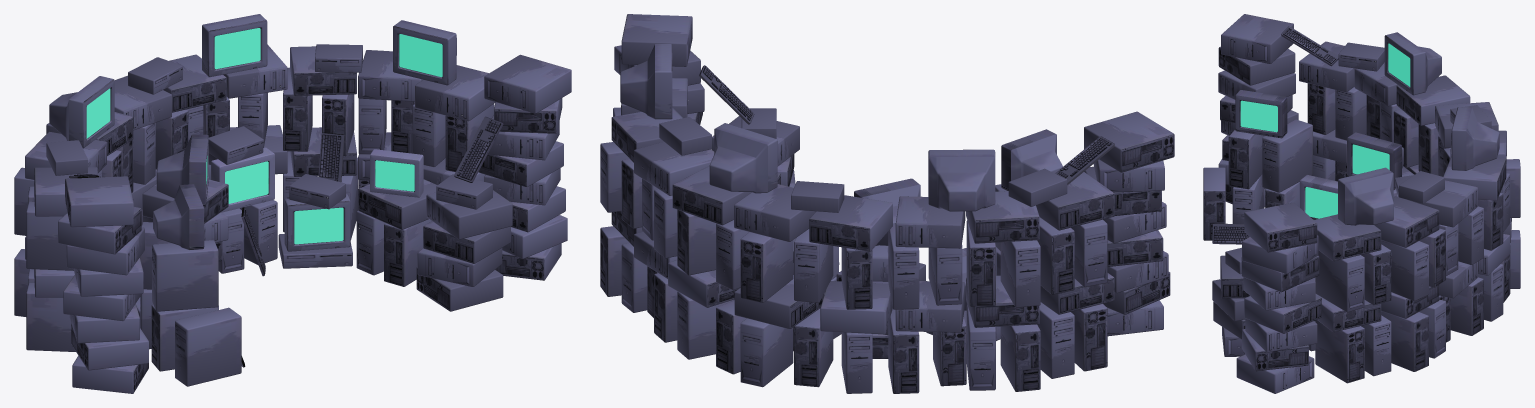
The model's file is computers.glb.
The picture shows the model from 3 angles, left to right: view 1: azimuth 30°, elevation 25°; view 2: azimuth 150°, elevation 25°; view 3: azimuth 270°, elevation 25°; orthographic projection. The views are drawn at different scales.
Visible parts, largest first — view 1: PC 01.011_30, PC 01.010_29, PC 02.026_76, Screen D.003_109, Screen D.004_110, PC 02.012_38, Screen D.002_108, Screen D.001_105, PC 01.052_97, Screen C.001_102, PC 01.007_23, Screen B.002_107 (+67 smaller); view 2: Screen D.002_108, Screen D.003_109, PC 02.012_38, PC 01.032_64, PC 02.021_61, PC 01.031_63, Screen D.004_110, PC 02.016_47, PC 02.026_76, PC 01.033_65, PC 02.022_66, PC 01.030_62 (+57 smaller); view 3: PC 01.005_17, Screen D.004_110, PC 02.026_76, PC 02.012_38, Screen D.002_108, PC 02.027_78, PC 02.032_90, Screen D.003_109, Screen B.002_107, PC 01.052_97, PC 01.038_77, PC 01.047_89 (+59 smaller).
Part boxes in pixels (left/top/right/bottom): PC 01.011_30: left=175, top=307, right=241, bottom=386; PC 01.010_29: left=152, top=240, right=218, bottom=311; PC 02.026_76: left=484, top=54, right=571, bottom=113; Screen D.003_109: left=202, top=14, right=267, bottom=76; Screen D.004_110: left=393, top=20, right=456, bottom=85; PC 02.012_38: left=65, top=176, right=133, bottom=227; Screen D.002_108: left=49, top=76, right=114, bottom=148; Screen D.001_105: left=284, top=194, right=350, bottom=251; PC 01.052_97: left=415, top=65, right=495, bottom=121; Screen C.001_102: left=211, top=147, right=274, bottom=212; PC 01.007_23: left=426, top=190, right=512, bottom=239; Screen B.002_107: left=153, top=184, right=204, bottom=249; Screen D.002_108: left=928, top=149, right=995, bottom=211; Screen D.003_109: left=709, top=123, right=777, bottom=193; PC 02.012_38: left=1084, top=111, right=1174, bottom=172; PC 01.032_64: left=809, top=195, right=892, bottom=251; PC 02.021_61: left=740, top=232, right=793, bottom=302; PC 01.031_63: left=895, top=196, right=965, bottom=248; Screen D.004_110: left=620, top=44, right=672, bottom=119; PC 02.016_47: left=740, top=318, right=793, bottom=387; PC 02.026_76: left=621, top=14, right=692, bottom=66; PC 01.033_65: left=734, top=184, right=815, bottom=241; PC 02.022_66: left=966, top=191, right=1039, bottom=243; PC 01.030_62: left=1036, top=172, right=1114, bottom=230; PC 01.005_17: left=1262, top=119, right=1312, bottom=192; Screen D.004_110: left=1338, top=167, right=1393, bottom=225; PC 02.026_76: left=1244, top=202, right=1317, bottom=252; PC 02.012_38: left=1221, top=14, right=1293, bottom=63; Screen D.002_108: left=1384, top=32, right=1441, bottom=95; PC 02.027_78: left=1315, top=320, right=1364, bottom=383; PC 02.032_90: left=1315, top=250, right=1364, bottom=312; Screen D.003_109: left=1451, top=107, right=1499, bottom=170; Screen B.002_107: left=1235, top=90, right=1287, bottom=138; PC 01.052_97: left=1314, top=214, right=1381, bottom=261; PC 01.038_77: left=1381, top=311, right=1428, bottom=371; PC 01.047_89: left=1381, top=240, right=1428, bottom=301.
Size of the model in its own units: 14.29 by 5.52 by 8.69.
Materials: 3 (1 with a texture image).
